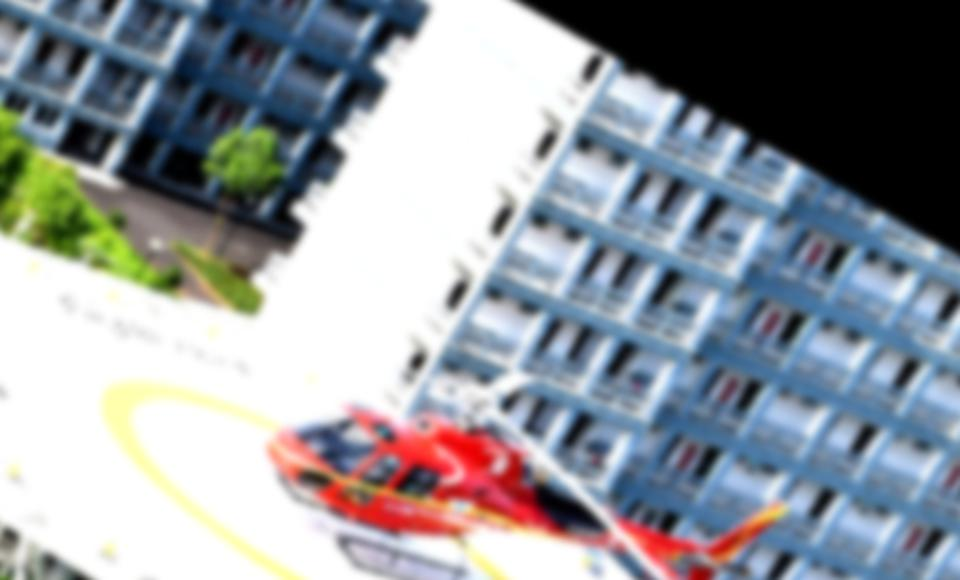Apron: (91, 341, 589, 580)
